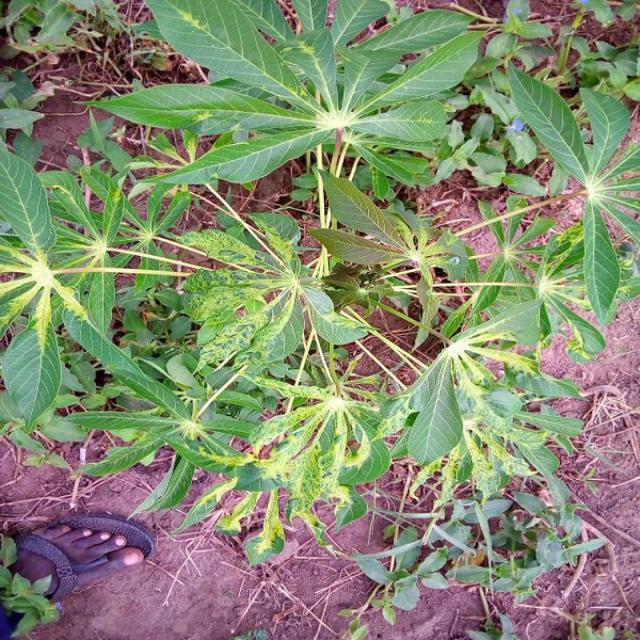cassava leaf: (506, 59, 588, 184)
